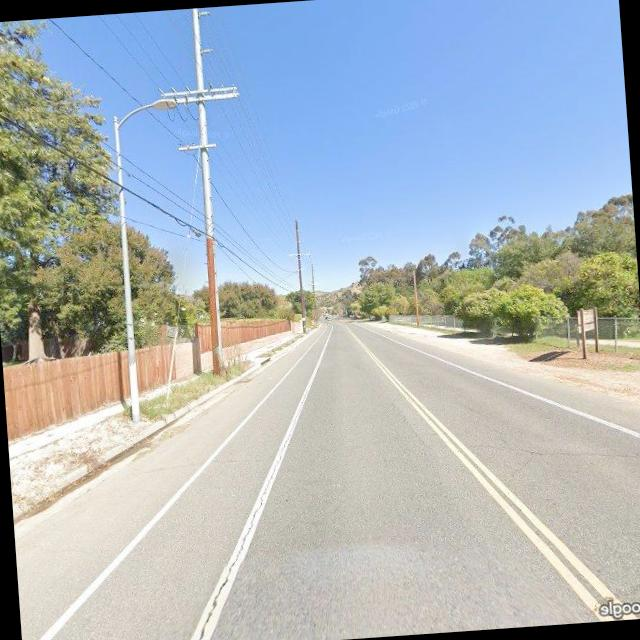crack: (185, 404, 320, 639), (451, 426, 640, 473)
